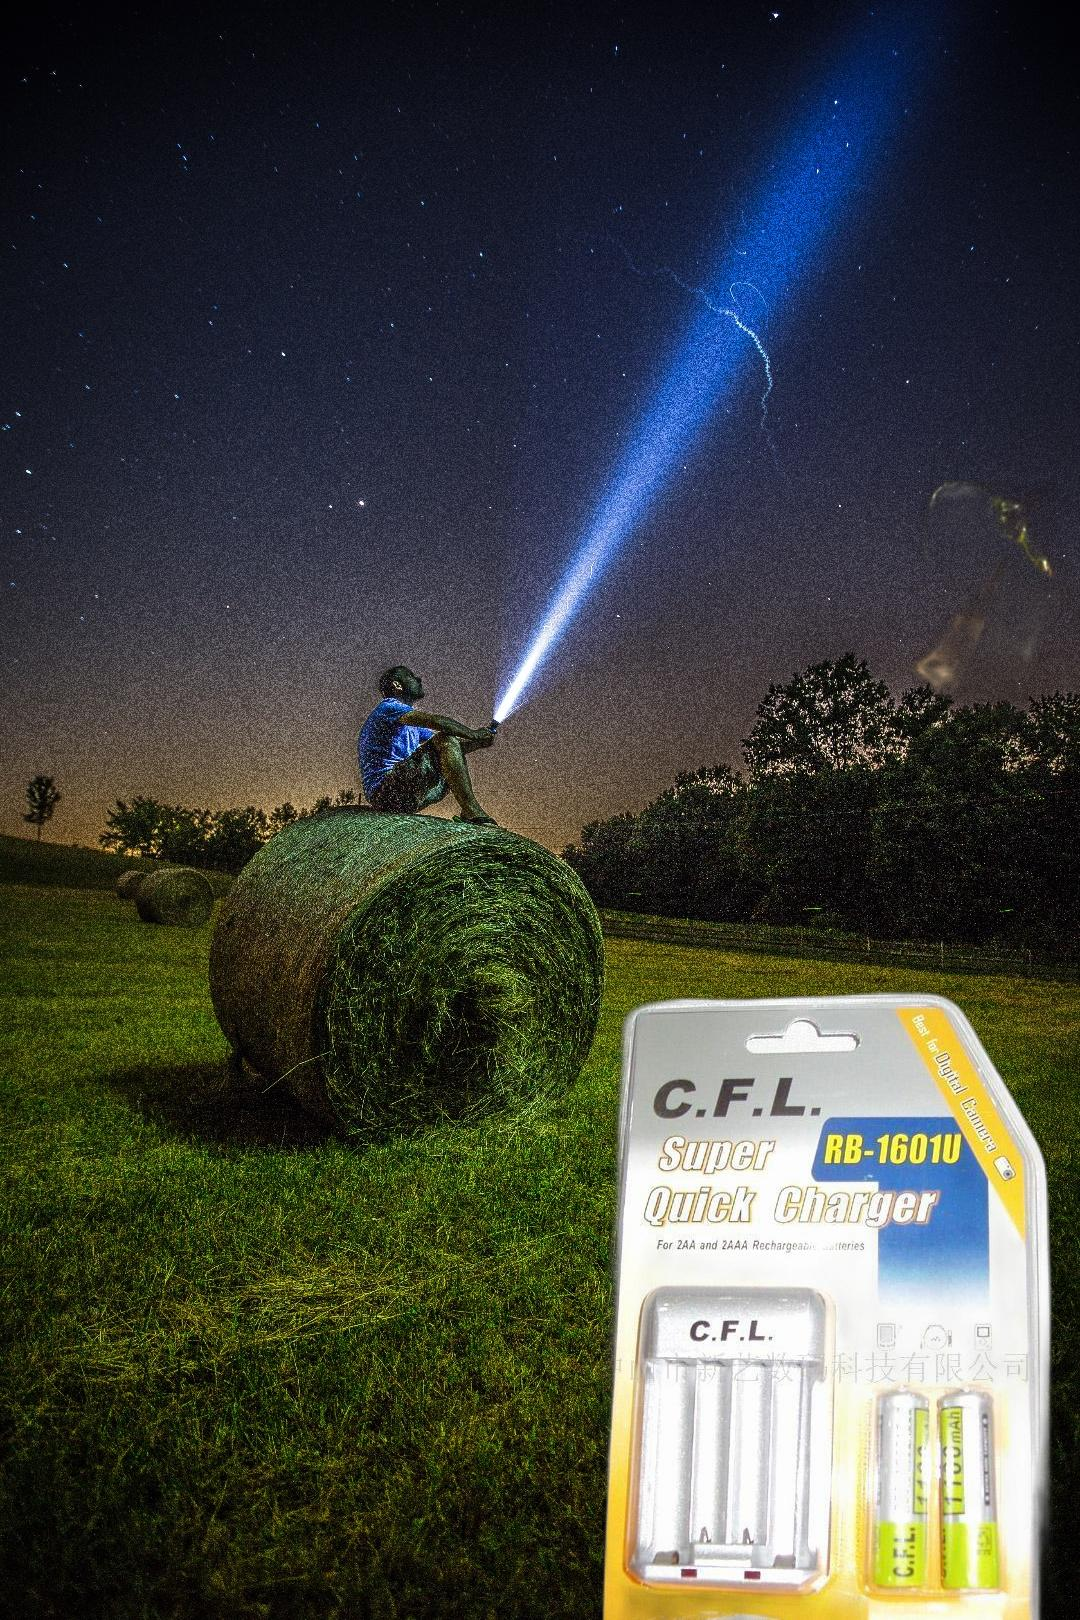battery: (552, 985, 1075, 1620)
paper: (1058, 1507, 1080, 1620)
paper-bag: (791, 480, 1080, 780)
